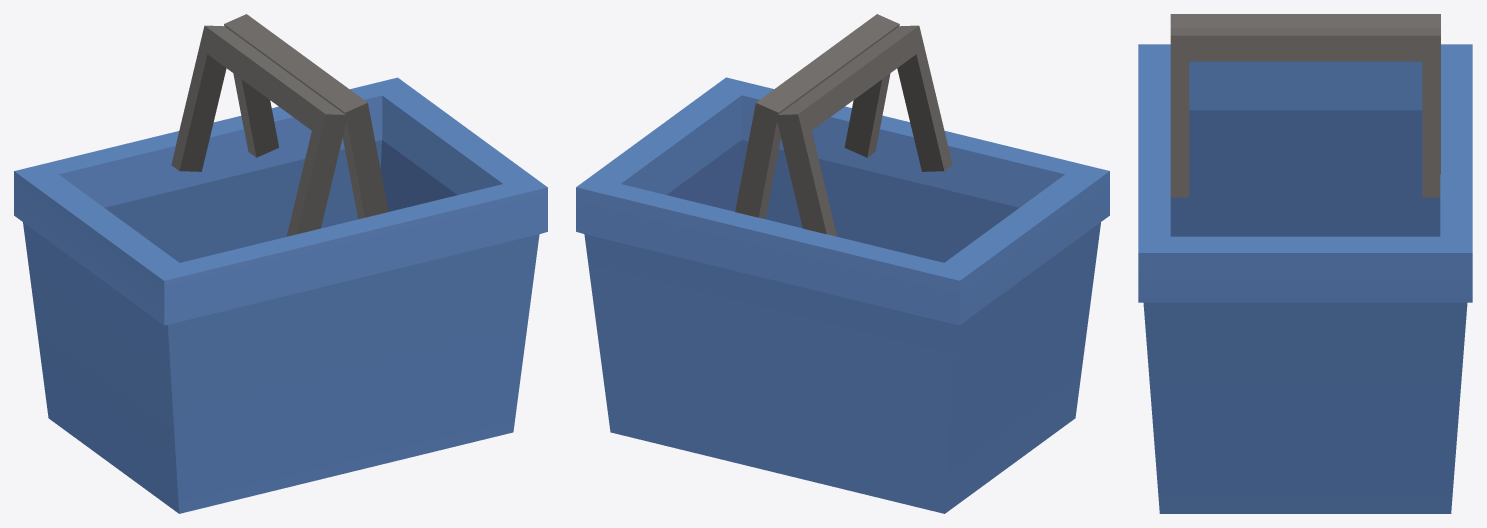
Rendered from BasketUp.glb.
The picture shows the model from 3 angles, left to right: view 1: azimuth 30°, elevation 25°; view 2: azimuth 150°, elevation 25°; view 3: azimuth 270°, elevation 25°; orthographic projection. The views are drawn at different scales.
Visible parts, largest first — view 1: SI_Prop_Basket_HandleUp_01; view 2: SI_Prop_Basket_HandleUp_01; view 3: SI_Prop_Basket_HandleUp_01.
Part boxes in pixels (x1=…): SI_Prop_Basket_HandleUp_01: x1=14, y1=14, x2=547, y2=513; SI_Prop_Basket_HandleUp_01: x1=576, y1=14, x2=1109, y2=513; SI_Prop_Basket_HandleUp_01: x1=1138, y1=14, x2=1472, y2=513.
Size of the model in its own units: 0.0104 by 0.00936 by 0.00706.
1 material, 1 textured.
